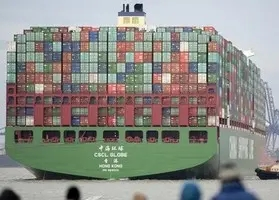Cargoship: (2, 5, 273, 176)
